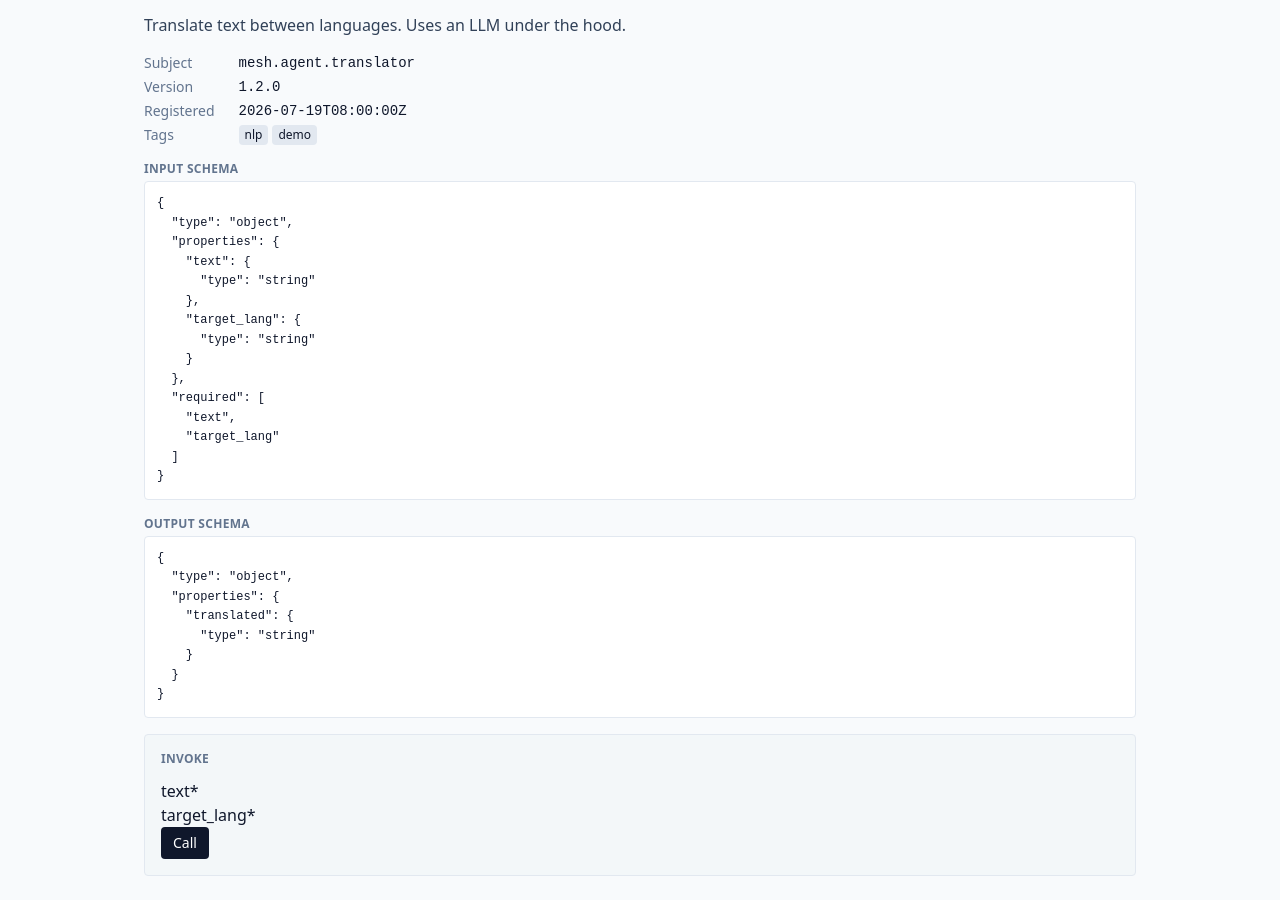
invocation sandbox › submits the form and renders the call reply
(page scrolled)
Type "Hello" into the field labelled "text*".
click(314, 790); type("Hello")  # box [199,778,430,802]
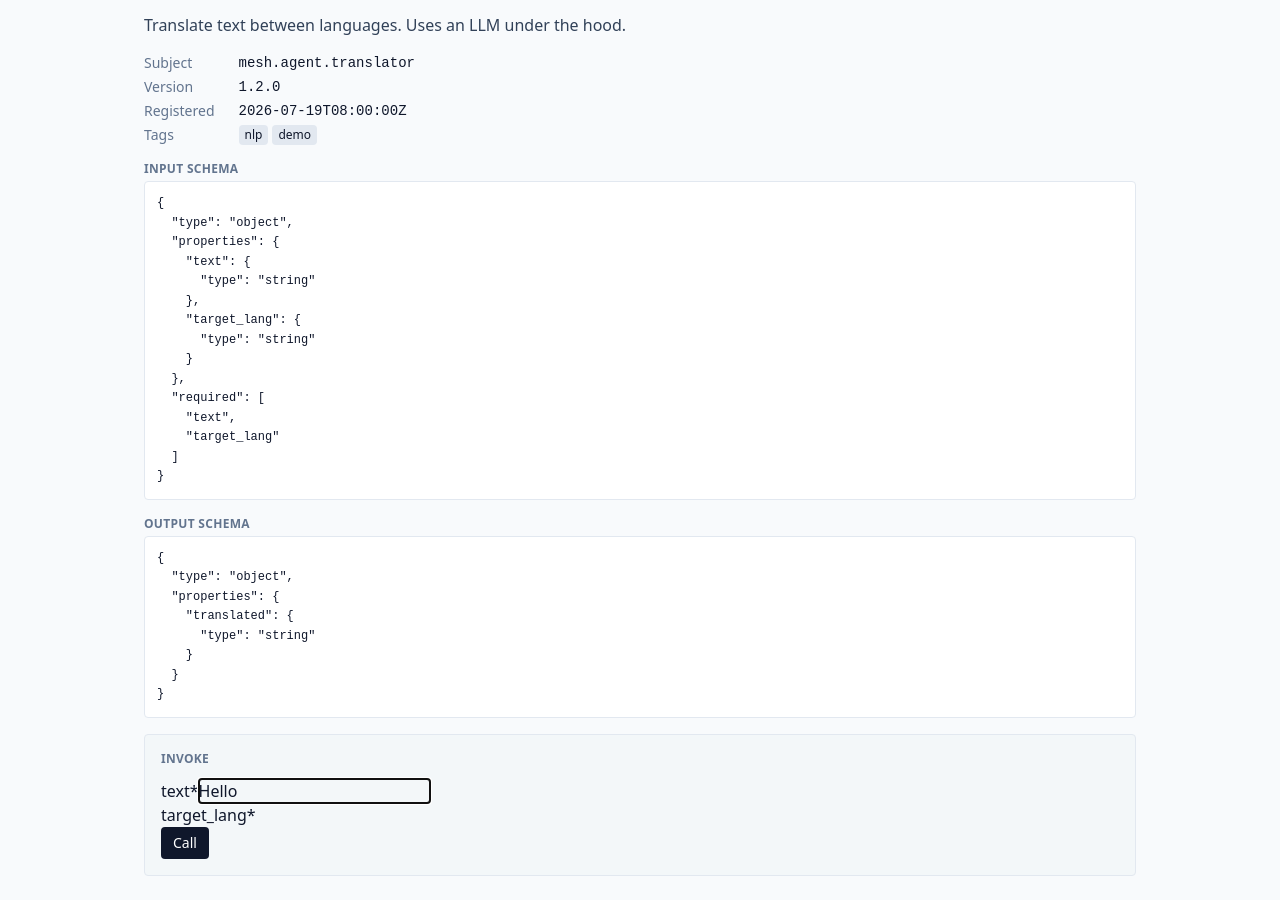
Type "fr" into the field labelled "target_lang*".
click(371, 814); type("fr")  # box [256,802,487,826]
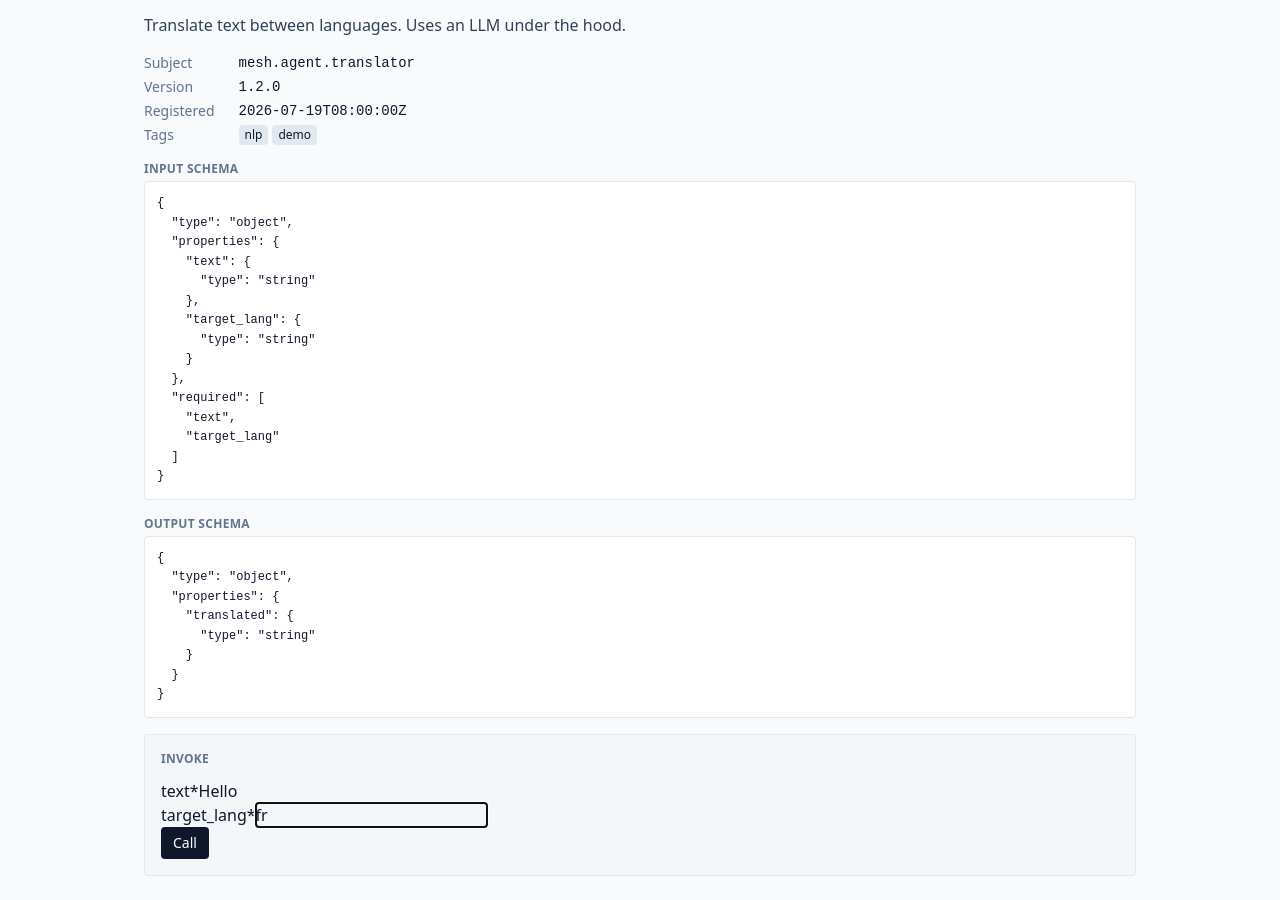
Click the button "Call".
click(185, 842)  # box [161,826,209,858]
(page scrolled)
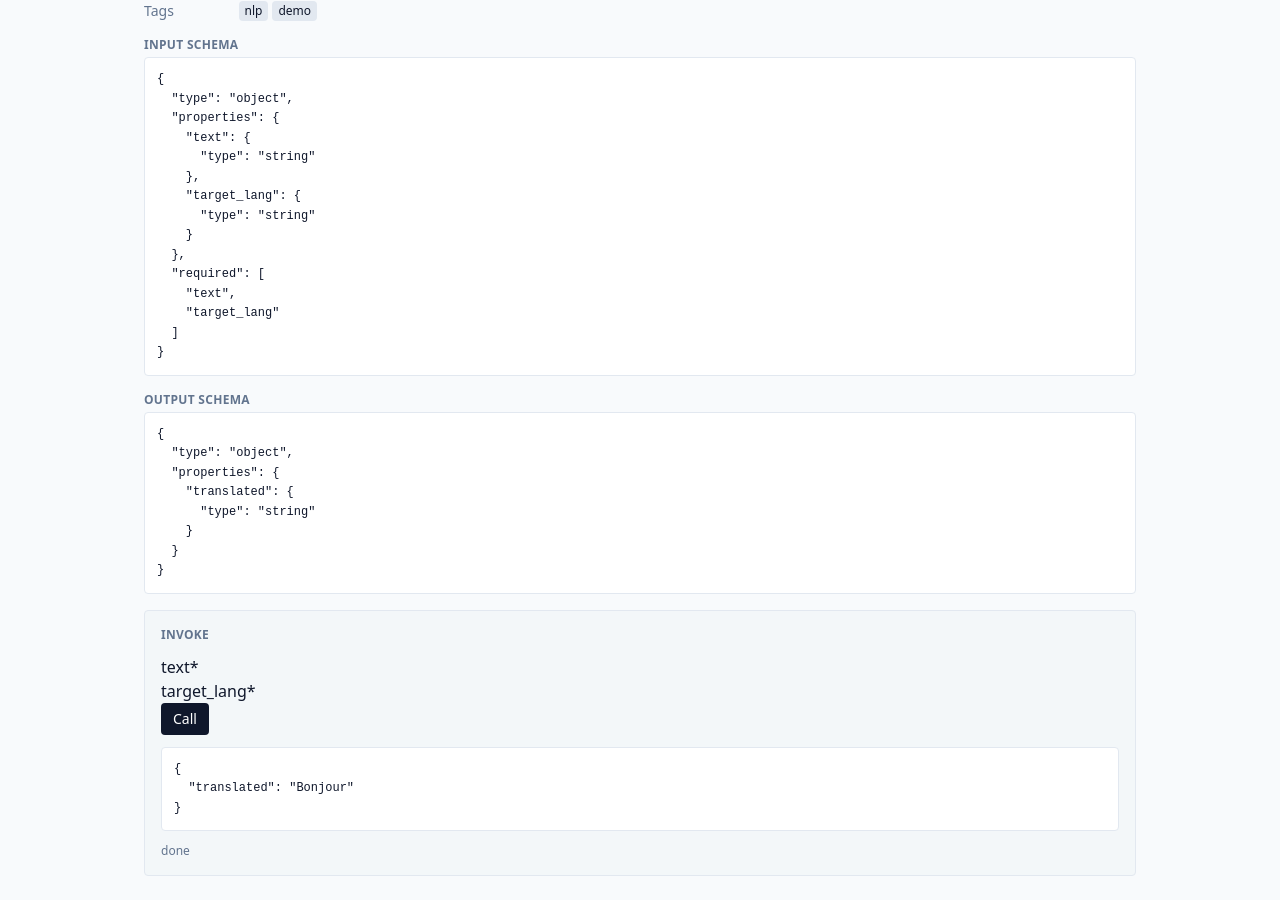
Result: the text "{ \"translated\": \"Bonjour\" }" is shown at [161,746,1119,831]
